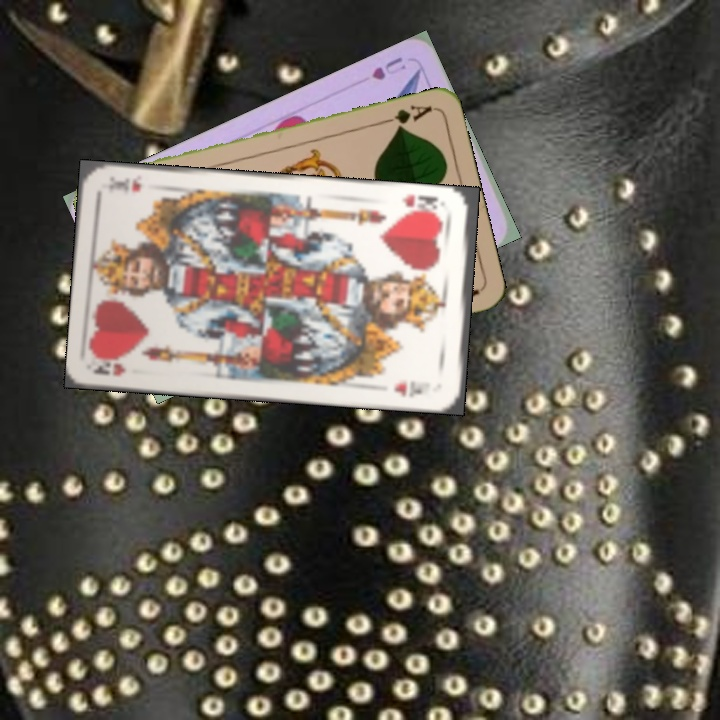GA: (377, 101, 435, 133)
HK: (398, 190, 443, 219), (90, 354, 127, 380)
HU: (367, 52, 409, 83)
